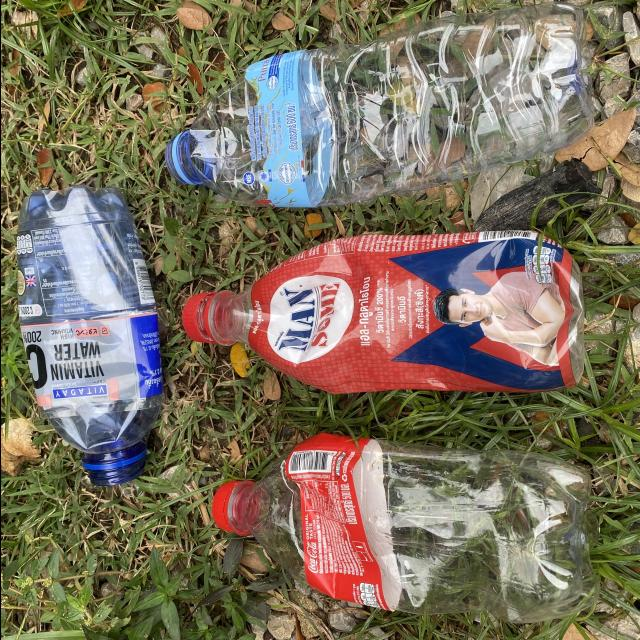plastik: (164, 2, 592, 208), (212, 433, 596, 623), (181, 231, 583, 393), (16, 186, 161, 486)
